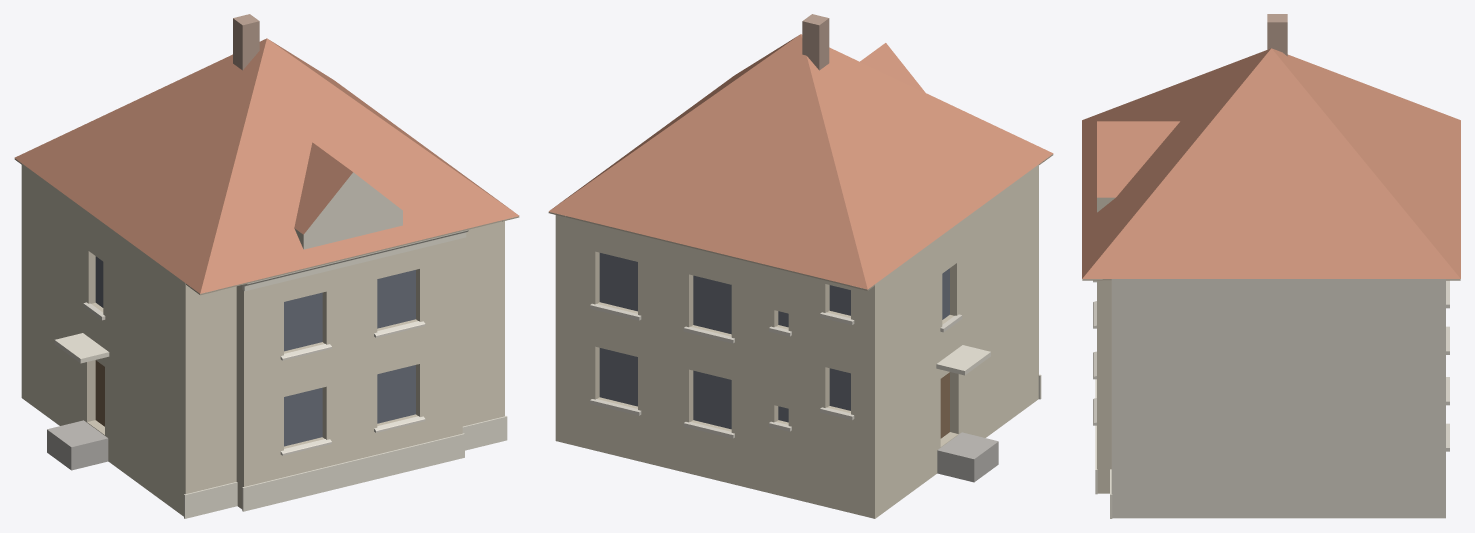
The picture shows the model from 3 angles, left to right: view 1: azimuth 30°, elevation 25°; view 2: azimuth 150°, elevation 25°; view 3: azimuth 270°, elevation 25°; orthographic projection.
Parts seen in each view (by area): view 1: CP_1691_Masonry, CP_1691_Roof, CP_1691_Dormer_PED, CP_1691_Cornice_plinth_R_0, CP_1691_Entrance_Steps, CP_1691_Cornice_risalit_main_0, CP_1691_Cornice_plinth_L_0, CP_1691_Chimney_0, CP_1691_Cornice_plinth_Rt_0, CP_1691_Entrance_Canopy, CP_1691_Roof_EaveClosure_0; view 2: CP_1691_Masonry, CP_1691_Roof, CP_1691_Entrance_Steps, CP_1691_Chimney_0, CP_1691_Dormer_PED, CP_1691_Entrance_Canopy, CP_1691_Roof_EaveClosure_2; view 3: CP_1691_Masonry, CP_1691_Roof, CP_1691_Dormer_PED, CP_1691_Chimney_0.
Part boxes in pixels (x1,y1,x2,y2): CP_1691_Masonry: (21,163,504,516); CP_1691_Roof: (14,38,519,293); CP_1691_Dormer_PED: (294,142,402,249); CP_1691_Cornice_plinth_R_0: (242,433,464,511); CP_1691_Entrance_Steps: (47,420,108,470); CP_1691_Cornice_risalit_main_0: (242,229,468,291); CP_1691_Cornice_plinth_L_0: (184,482,237,518); CP_1691_Chimney_0: (233,14,259,70); CP_1691_Cornice_plinth_Rt_0: (462,416,507,450); CP_1691_Entrance_Canopy: (54,333,109,363); CP_1691_Roof_EaveClosure_0: (190,220,501,294); CP_1691_Masonry: (555,164,1038,518); CP_1691_Roof: (549,34,1053,289); CP_1691_Entrance_Steps: (937,432,998,482); CP_1691_Chimney_0: (802,14,829,70); CP_1691_Dormer_PED: (860,43,925,92); CP_1691_Entrance_Canopy: (936,345,990,375); CP_1691_Roof_EaveClosure_2: (566,216,874,290); CP_1691_Masonry: (1097,279,1445,518); CP_1691_Roof: (1082,48,1460,278); CP_1691_Dormer_PED: (1097,121,1179,212); CP_1691_Chimney_0: (1267,14,1287,56).
Size of the model in its own units: 12.6 by 13.6 by 11.34.
